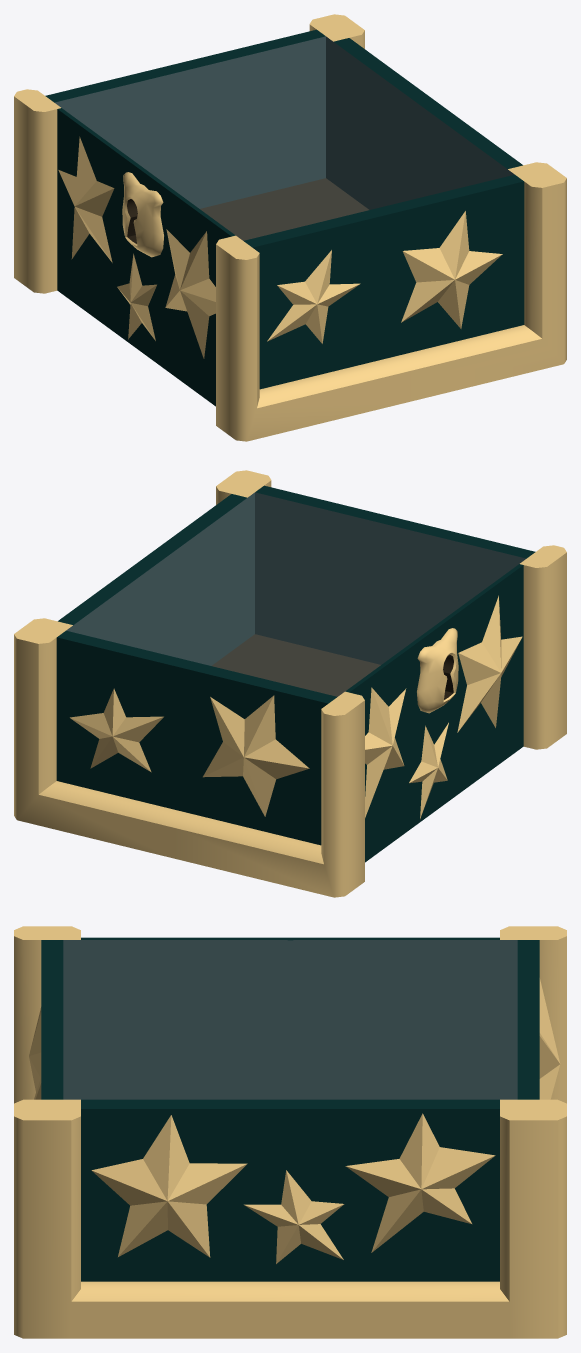
The model's file is SE_173_magic_chest.glb.
3 renders of one model, top to bottom at view 1: azimuth 30°, elevation 25°; view 2: azimuth 150°, elevation 25°; view 3: azimuth 270°, elevation 25°, orthographic. The views are drawn at different scales.
Visible parts, largest first — view 1: chest, decorative_stars, lock; view 2: chest, decorative_stars, lock; view 3: chest, decorative_stars.
Boxes of the visible parts, <box> form: chest: <box>14,14,566,441</box>; decorative_stars: <box>58,136,502,358</box>; lock: <box>122,172,163,257</box>; chest: <box>14,470,566,897</box>; decorative_stars: <box>70,595,522,818</box>; lock: <box>417,628,458,713</box>; chest: <box>14,926,566,1338</box>; decorative_stars: <box>29,978,560,1263</box>.
Size of the model in its own units: 1.14 by 0.6 by 1.38.
